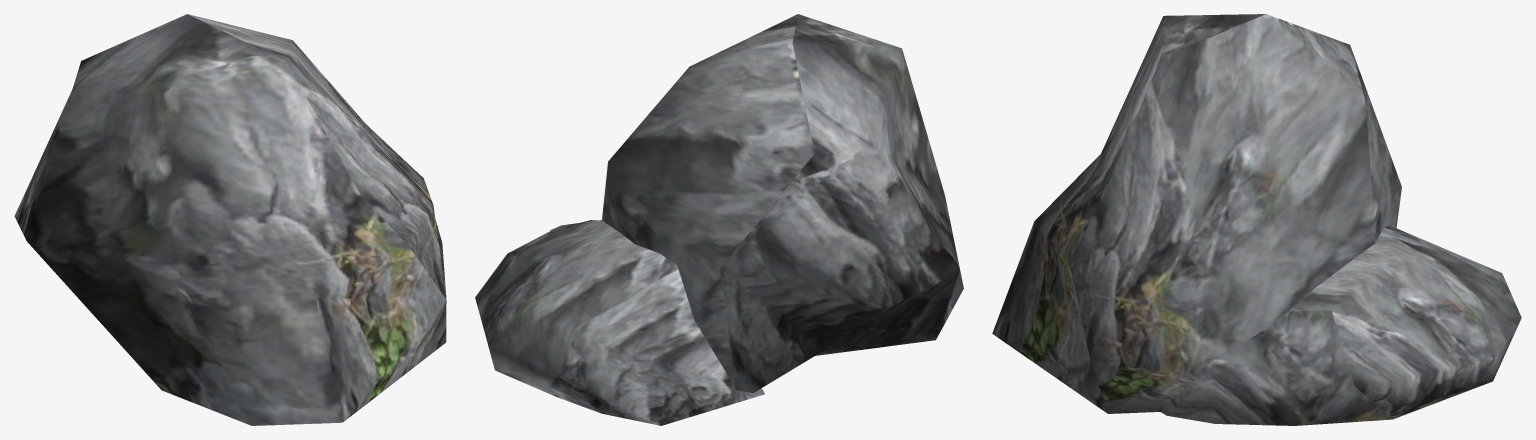
Rendered from furni_0200926.FBX.
3 renders of one model, left to right at view 1: azimuth 30°, elevation 25°; view 2: azimuth 150°, elevation 25°; view 3: azimuth 270°, elevation 25°, orthographic. The views are drawn at different scales.
Visible parts, largest first — view 1: furni_0200926; view 2: furni_0200926; view 3: furni_0200926.
Boxes of the visible parts, x1,y1,x2,y2 form: furni_0200926: (14,14,446,425); furni_0200926: (475,14,963,425); furni_0200926: (992,14,1521,425).
Size of the model in its own units: 74.73 by 55.86 by 84.59.
Materials: 1 (1 with a texture image).
